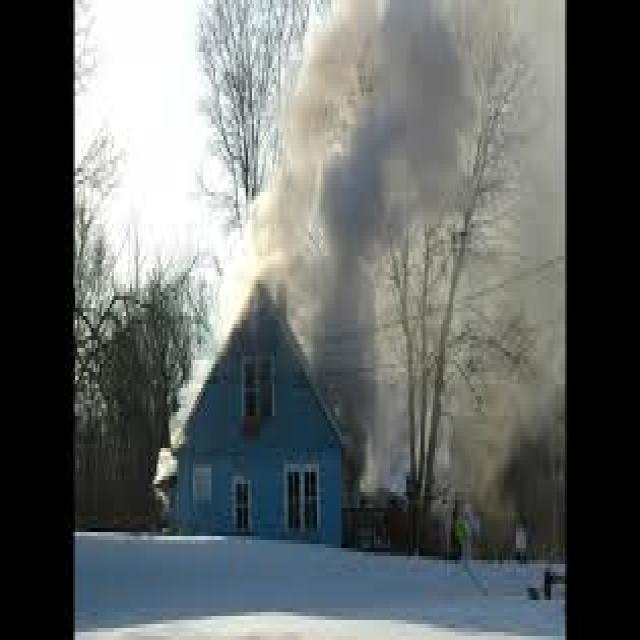Smoke: (154, 0, 566, 546)
